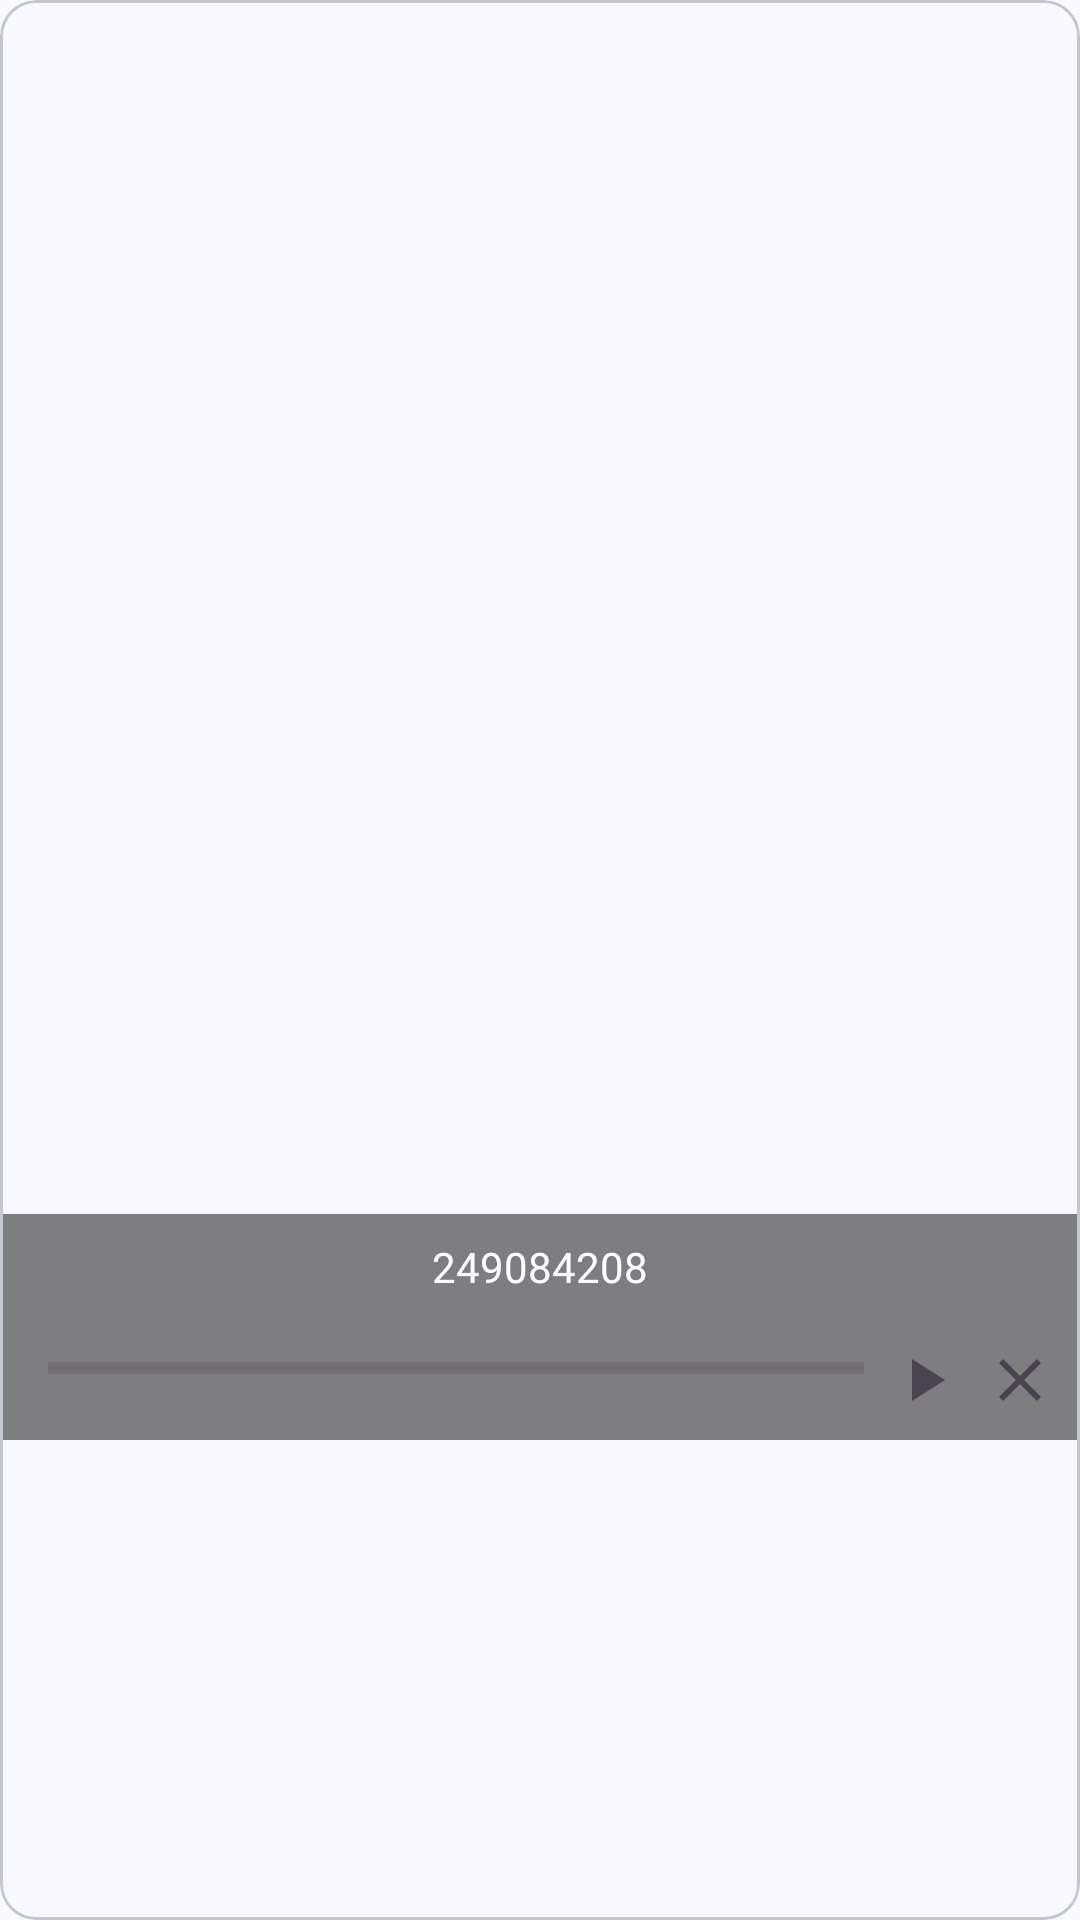

Named icons in this screenshot (1080px×1920px) and their centers, point (x, y):
Start download: point (928, 1380)
Stop download: point (1020, 1380)
